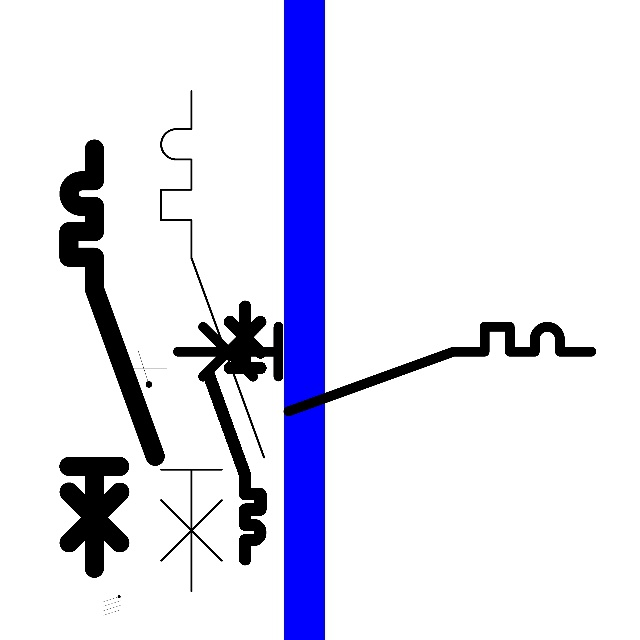interruptor_termomagnetico: (148, 78, 276, 603), (58, 138, 166, 579), (167, 316, 602, 422), (202, 300, 267, 566)
